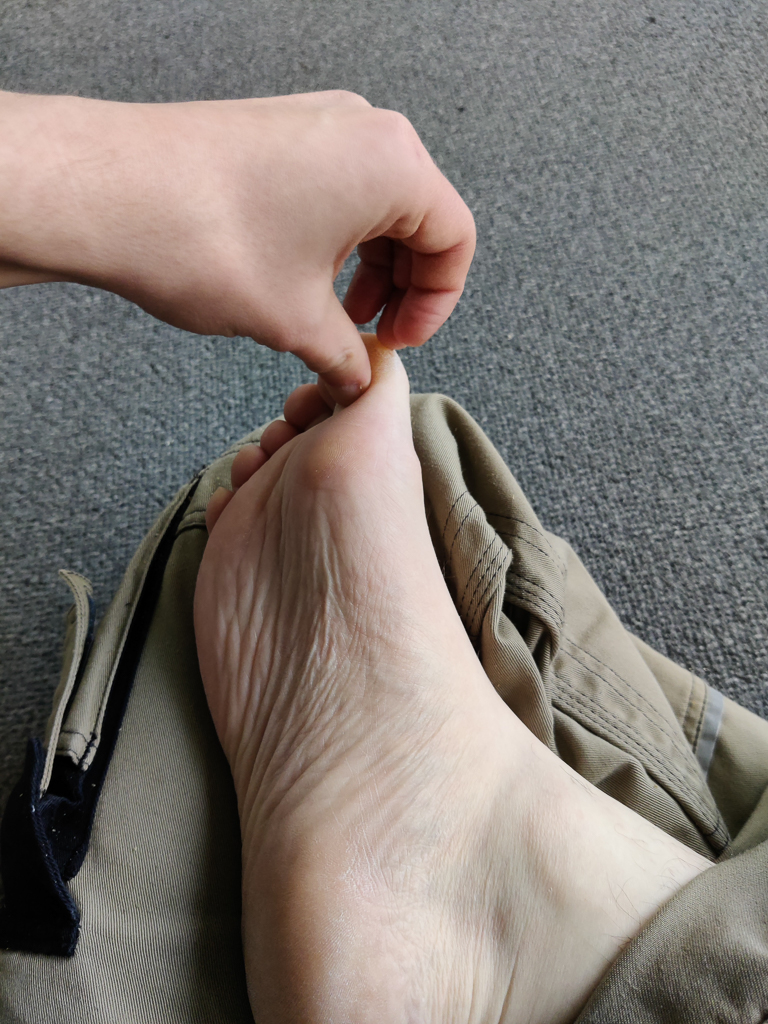Humanoid: (0, 79, 768, 1024)
